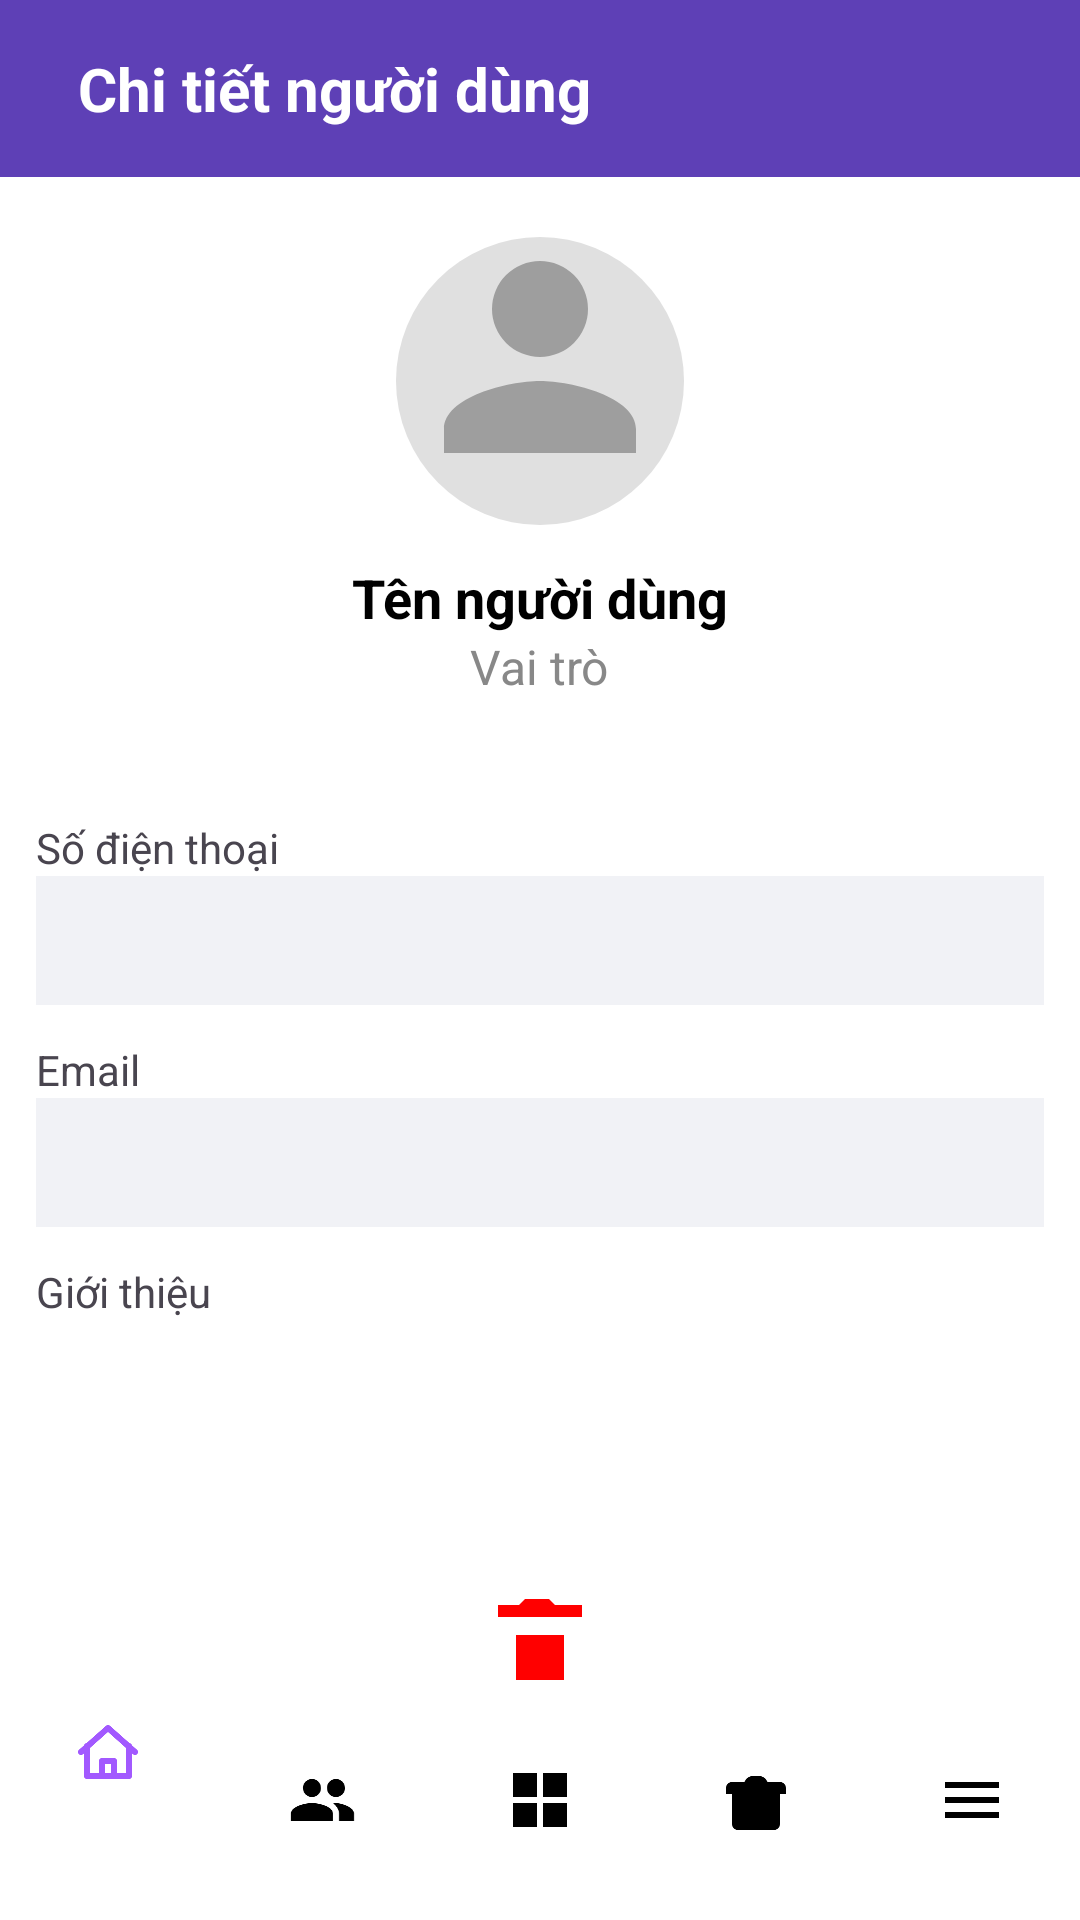

Where icons sit on this 1080×1920 app screen, as (x1, y1, x2, y2):
delete: (498, 1599, 582, 1680)
